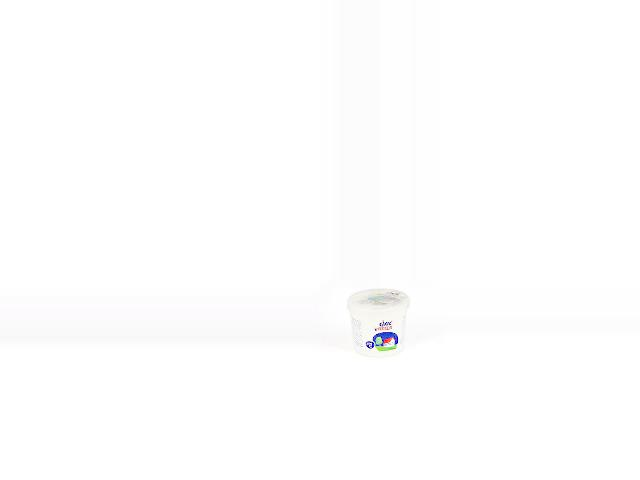cotage: (346, 288, 412, 360)
